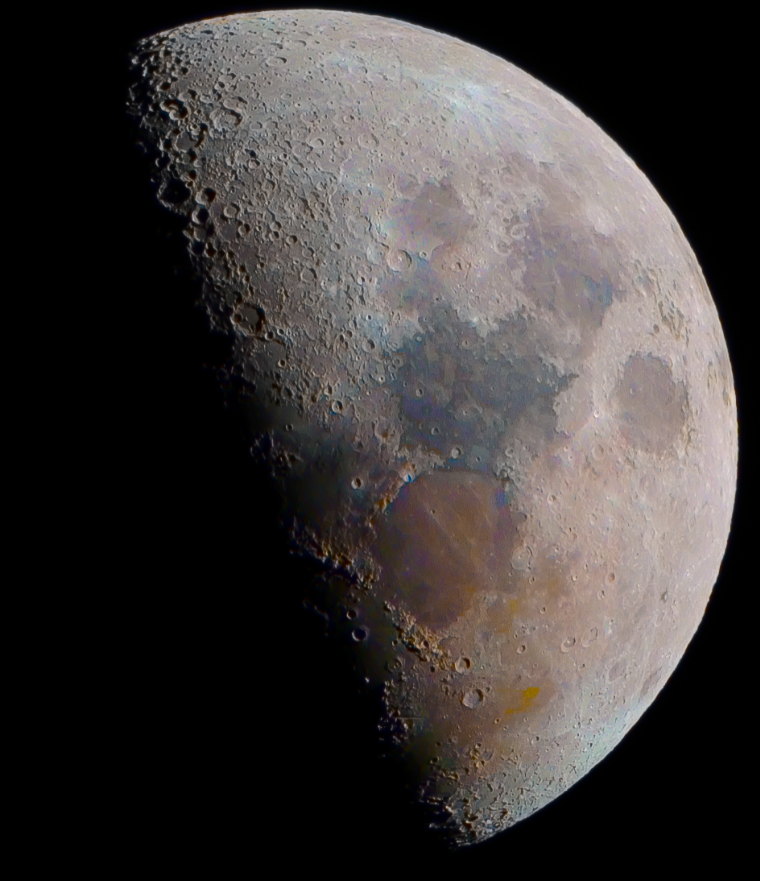crater: (348, 445, 553, 652), (607, 335, 711, 482), (226, 292, 279, 344), (371, 231, 420, 278), (391, 162, 434, 207), (205, 99, 250, 136), (458, 681, 496, 720), (441, 648, 483, 679), (604, 651, 634, 686), (350, 122, 382, 154), (574, 617, 603, 652), (356, 329, 386, 362), (257, 49, 289, 78), (321, 393, 355, 420), (297, 258, 324, 290), (220, 196, 250, 222), (521, 727, 551, 751), (194, 181, 221, 206), (284, 34, 309, 57), (422, 417, 446, 439), (407, 379, 428, 401)
